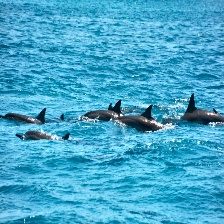dolphin: (181, 93, 224, 123)
